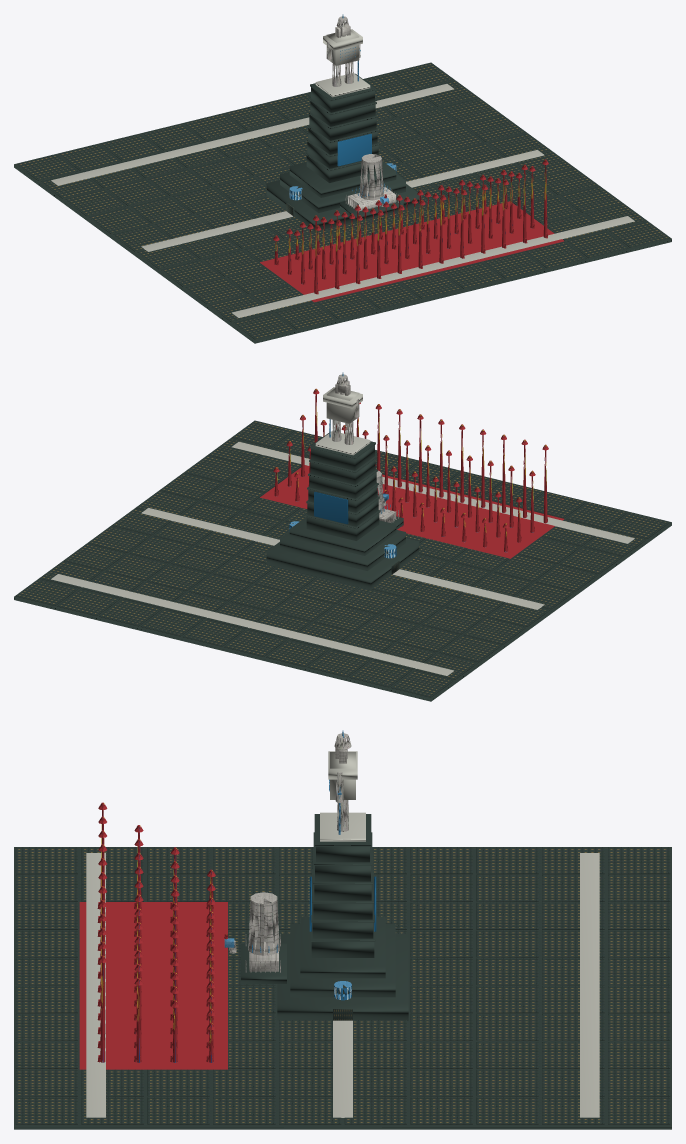
3 views of the same model, one above another, from view 1: azimuth 30°, elevation 25°; view 2: azimuth 150°, elevation 25°; view 3: azimuth 270°, elevation 25° (orthographic). The views are drawn at different scales.
Parts seen in each view (by area): view 1: leesunshin_plaza_ground, leesunshin_myeongnyang_fountain, leesunshin_granite_pedestal, leesunshin_bronze_statue, leesunshin_geobukseon_and_drums; view 2: leesunshin_plaza_ground, leesunshin_myeongnyang_fountain, leesunshin_granite_pedestal, leesunshin_bronze_statue, leesunshin_geobukseon_and_drums; view 3: leesunshin_plaza_ground, leesunshin_myeongnyang_fountain, leesunshin_granite_pedestal, leesunshin_geobukseon_and_drums, leesunshin_bronze_statue.
Part boxes in pixels (box(x1,y1,x2,y2)): leesunshin_plaza_ground: box(14, 62, 671, 343); leesunshin_myeongnyang_fountain: box(260, 159, 563, 302); leesunshin_granite_pedestal: box(266, 73, 419, 231); leesunshin_bronze_statue: box(315, 14, 370, 97); leesunshin_geobukseon_and_drums: box(286, 154, 403, 221); leesunshin_plaza_ground: box(14, 420, 671, 701); leesunshin_myeongnyang_fountain: box(260, 388, 564, 558); leesunshin_granite_pedestal: box(266, 433, 419, 589); leesunshin_bronze_statue: box(315, 372, 370, 455); leesunshin_geobukseon_and_drums: box(289, 470, 403, 574); leesunshin_plaza_ground: box(14, 847, 671, 1129); leesunshin_myeongnyang_fountain: box(79, 802, 227, 1069); leesunshin_granite_pedestal: box(277, 814, 408, 1020); leesunshin_geobukseon_and_drums: box(224, 892, 352, 1020); leesunshin_bronze_statue: box(320, 730, 365, 841).
Size of the model in its own units: 40 by 17.45 by 40.
3 materials, 3 textured.
